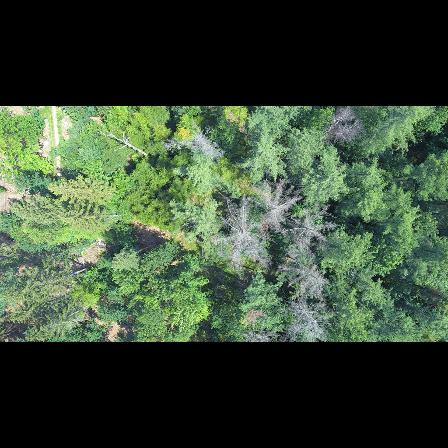Dead: (215, 203, 267, 262), (164, 125, 229, 161), (289, 295, 328, 341), (281, 256, 329, 291), (258, 183, 300, 222), (281, 210, 329, 242), (321, 107, 365, 140)
